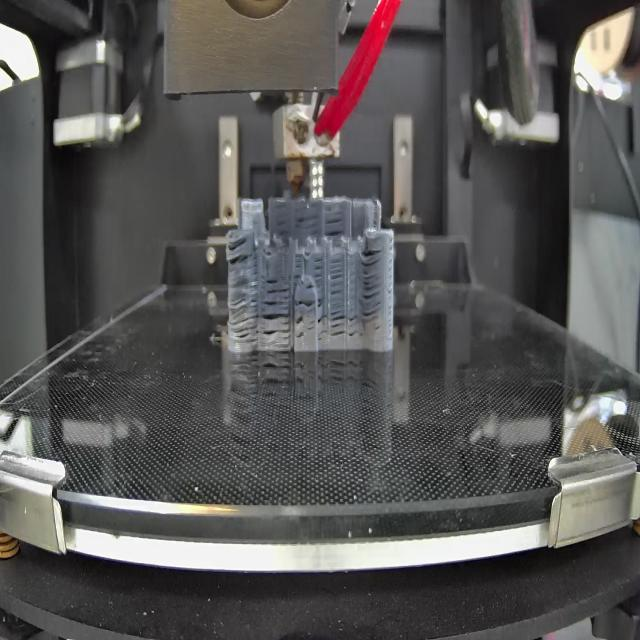cracks: (228, 279, 259, 342), (361, 245, 383, 331), (263, 300, 290, 342), (226, 238, 258, 268), (264, 276, 292, 298), (330, 258, 346, 295), (298, 212, 320, 238), (325, 210, 344, 239), (330, 309, 346, 340), (294, 297, 322, 310), (313, 256, 325, 281), (348, 309, 358, 339), (296, 317, 306, 343), (293, 255, 303, 280), (318, 315, 328, 340), (278, 219, 290, 236), (306, 281, 316, 291)
